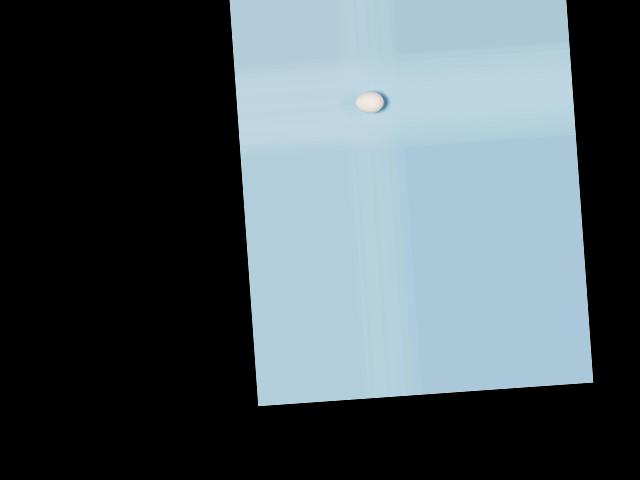egg: (355, 90, 384, 113)
